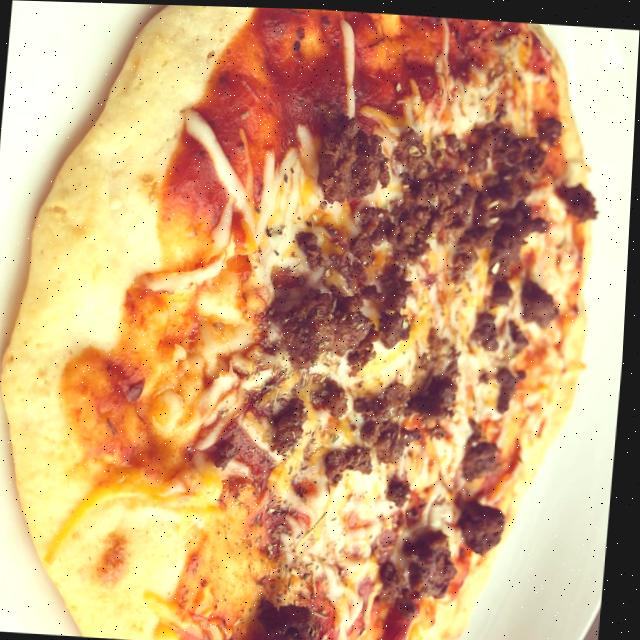pizza: (0, 0, 611, 640)
